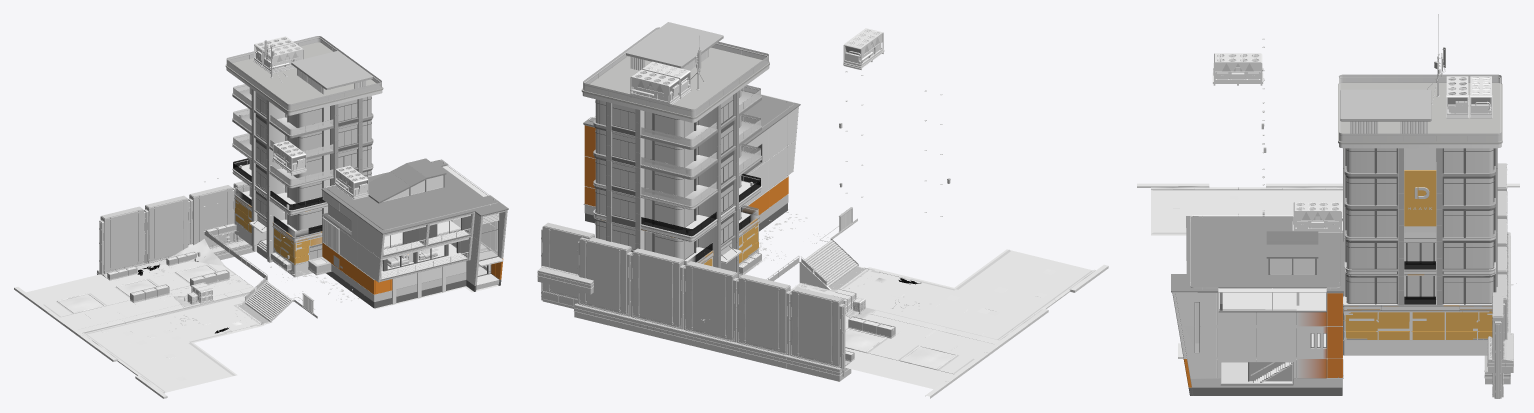
File: cell_160_116.fbx
3 renders of one model, left to right at view 1: azimuth 30°, elevation 25°; view 2: azimuth 150°, elevation 25°; view 3: azimuth 270°, elevation 25°, orthographic. The views are drawn at different scales.
Visible parts, largest first — view 1: SM_H_Building_FutureTech_Dormitory_02_ExterWall_01F.mo, SM_I_RoadFacility_Ground_D_01.mo, SM_H_Building_FutureTech_Dormitory_01.mo.004, SM_H_Building_FutureTech_Dormitory_01C.mo.004, SM_H_Building_FutureTech_Dormitory_01B.mo.004, SM_H_Fence_Metal_1024x768_01.mo.015, SM_H_Fence_Metal_1024x768_01.mo.014, SM_H_Fence_Metal_1024x768_01.mo.013, SM_H_Building_FutureTech_Dormitory_01_Ornament_03.mo.001, SM_I_RoadFacility_Ground_D_01_Decal.mo, SM_H_Building_FutureTech_Dormitory_01_Decal.mo.001, SM_H_FutureTech_Electrical_BigConditioners_01.mo.006 (+6 smaller); view 2: SM_H_Building_FutureTech_Dormitory_01.mo.004, SM_I_RoadFacility_Ground_D_01.mo, SM_H_Building_FutureTech_Dormitory_01C.mo.004, SM_H_Building_FutureTech_Dormitory_01B.mo.004, SM_H_Building_FutureTech_Dormitory_02_ExterWall_01F.mo, SM_H_Fence_Metal_1024x768_01.mo.015, SM_H_Fence_Metal_1024x768_01.mo.014, SM_H_Fence_Metal_1024x768_01.mo.013, SM_H_Fence_Metal_1024x768_01.mo.012, SM_H_Fence_Metal_1024x768_01.mo.310, SM_H_Building_FutureTech_Dormitory_01_Ornament_03.mo.001, SM_H_Fence_Metal_1024x768_01.mo.309 (+12 smaller); view 3: SM_H_Building_FutureTech_Dormitory_02_ExterWall_01F.mo, SM_H_Building_FutureTech_Dormitory_01.mo.004, SM_H_Building_FutureTech_Dormitory_01C.mo.004, SM_I_RoadFacility_Ground_D_01.mo, SM_H_Building_FutureTech_Dormitory_01_Ornament_03.mo.001, SM_H_Building_FutureTech_Dormitory_01B.mo.004, SM_H_FutureTech_Electrical_BigConditioners_01.mo.006, SM_H_FutureTech_Electrical_BigConditioners_01.mo.008, SM_H_Building_FutureTech_Dormitory_02_InterWall_06.mo.002, SM_H_Building_FutureTech_Dormitory_02_InterWall_05.mo.001, SM_H_Fence_Metal_1024x768_01.mo.309, SM_H_Building_FutureTech_Dormitory_01_Decal.mo.001 (+6 smaller).
Part boxes in pixels (<box>): SM_H_Building_FutureTech_Dormitory_02_ExterWall_01F.mo: <box>321,158,508,309</box>; SM_I_RoadFacility_Ground_D_01.mo: <box>14,261,317,398</box>; SM_H_Building_FutureTech_Dormitory_01.mo.004: <box>225,36,383,277</box>; SM_H_Building_FutureTech_Dormitory_01C.mo.004: <box>249,87,371,259</box>; SM_H_Building_FutureTech_Dormitory_01B.mo.004: <box>226,36,381,237</box>; SM_H_Fence_Metal_1024x768_01.mo.015: <box>99,206,145,274</box>; SM_H_Fence_Metal_1024x768_01.mo.014: <box>144,195,189,263</box>; SM_H_Fence_Metal_1024x768_01.mo.013: <box>188,185,234,248</box>; SM_H_Building_FutureTech_Dormitory_01_Ornament_03.mo.001: <box>291,51,372,94</box>; SM_I_RoadFacility_Ground_D_01_Decal.mo: <box>43,264,289,392</box>; SM_H_Building_FutureTech_Dormitory_01_Decal.mo.001: <box>235,135,322,264</box>; SM_H_FutureTech_Electrical_BigConditioners_01.mo.006: <box>272,140,306,175</box>; SM_H_Building_FutureTech_Dormitory_01.mo.004: <box>581,27,769,277</box>; SM_I_RoadFacility_Ground_D_01.mo: <box>790,218,1108,398</box>; SM_H_Building_FutureTech_Dormitory_01C.mo.004: <box>595,89,741,259</box>; SM_H_Building_FutureTech_Dormitory_01B.mo.004: <box>583,27,768,265</box>; SM_H_Building_FutureTech_Dormitory_02_ExterWall_01F.mo: <box>583,90,800,231</box>; SM_H_Fence_Metal_1024x768_01.mo.015: <box>790,287,845,376</box>; SM_H_Fence_Metal_1024x768_01.mo.014: <box>737,274,791,355</box>; SM_H_Fence_Metal_1024x768_01.mo.013: <box>684,261,738,342</box>; SM_H_Fence_Metal_1024x768_01.mo.012: <box>630,248,685,329</box>; SM_H_Fence_Metal_1024x768_01.mo.310: <box>577,237,632,316</box>; SM_H_Building_FutureTech_Dormitory_01_Ornament_03.mo.001: <box>626,22,723,70</box>; SM_H_Fence_Metal_1024x768_01.mo.309: <box>541,222,594,308</box>; SM_H_Building_FutureTech_Dormitory_02_ExterWall_01F.mo: <box>1171,215,1343,395</box>; SM_H_Building_FutureTech_Dormitory_01.mo.004: <box>1338,74,1502,355</box>; SM_H_Building_FutureTech_Dormitory_01C.mo.004: <box>1347,148,1493,303</box>; SM_I_RoadFacility_Ground_D_01.mo: <box>1137,183,1519,235</box>; SM_H_Building_FutureTech_Dormitory_01_Ornament_03.mo.001: <box>1340,89,1431,133</box>; SM_H_Building_FutureTech_Dormitory_01B.mo.004: <box>1339,75,1501,304</box>; SM_H_FutureTech_Electrical_BigConditioners_01.mo.006: <box>1212,53,1263,85</box>; SM_H_FutureTech_Electrical_BigConditioners_01.mo.008: <box>1292,202,1342,233</box>; SM_H_Building_FutureTech_Dormitory_02_InterWall_06.mo.002: <box>1222,292,1296,310</box>; SM_H_Building_FutureTech_Dormitory_02_InterWall_05.mo.001: <box>1221,362,1292,382</box>; SM_H_Fence_Metal_1024x768_01.mo.309: <box>1492,292,1503,398</box>; SM_H_Building_FutureTech_Dormitory_01_Decal.mo.001: <box>1343,274,1492,339</box>.
Size of the model in its own units: 62.1 by 41.62 by 44.8.
